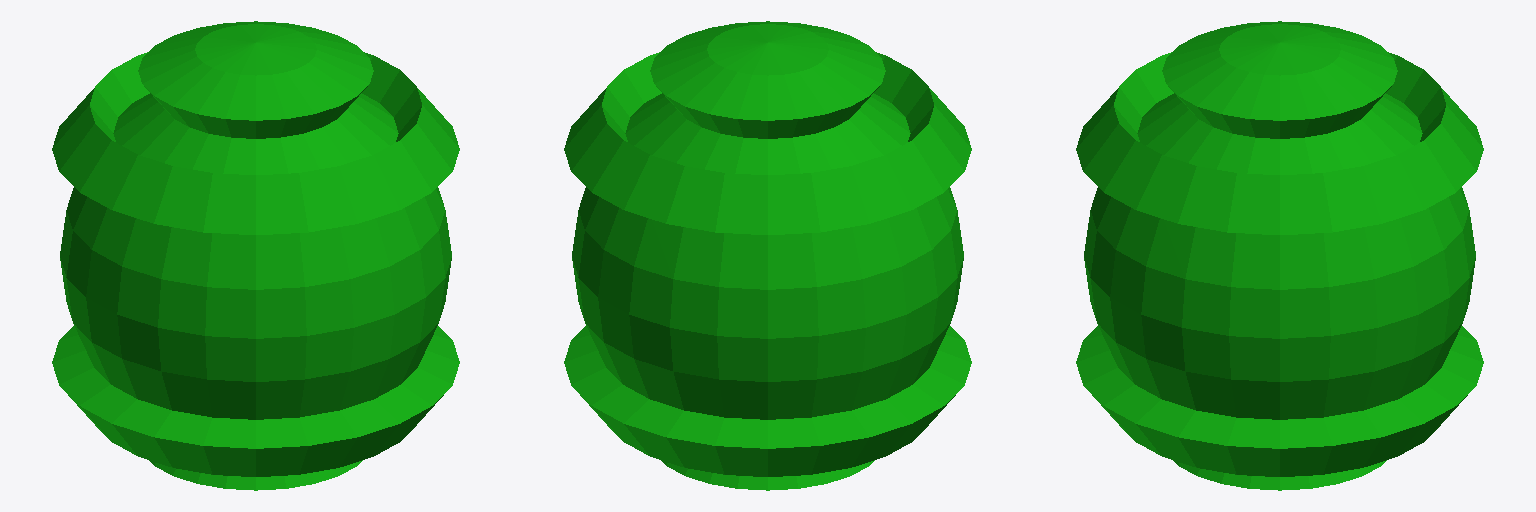
File: HealthPickup.obj
3 views of the same model, side by side, from view 1: azimuth 30°, elevation 25°; view 2: azimuth 150°, elevation 25°; view 3: azimuth 270°, elevation 25° (orthographic).
Parts seen in each view (by area): view 1: Sphere002; view 2: Sphere002; view 3: Sphere002.
Part boxes in pixels (x1,y1,x2,y2): Sphere002: (52,21,459,490); Sphere002: (564,21,971,490); Sphere002: (1076,21,1483,490).
Bounding box in the file's own units: 3.46 × 4 × 3.46.